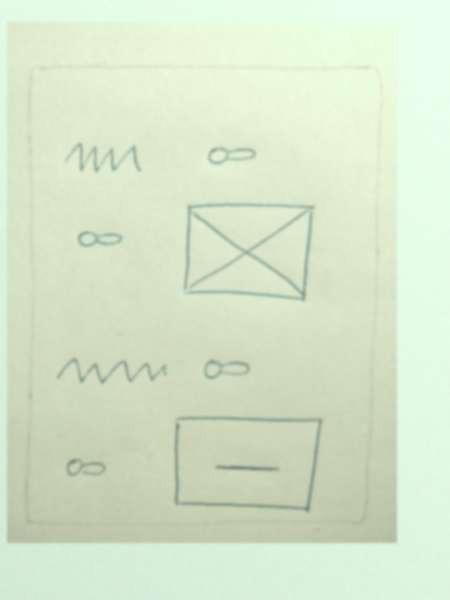image: (174, 195, 324, 315), (165, 410, 329, 515)
switch: (193, 353, 268, 387), (56, 448, 118, 486), (200, 138, 266, 171), (73, 222, 133, 255)
text: (50, 345, 180, 398), (57, 137, 160, 182)
